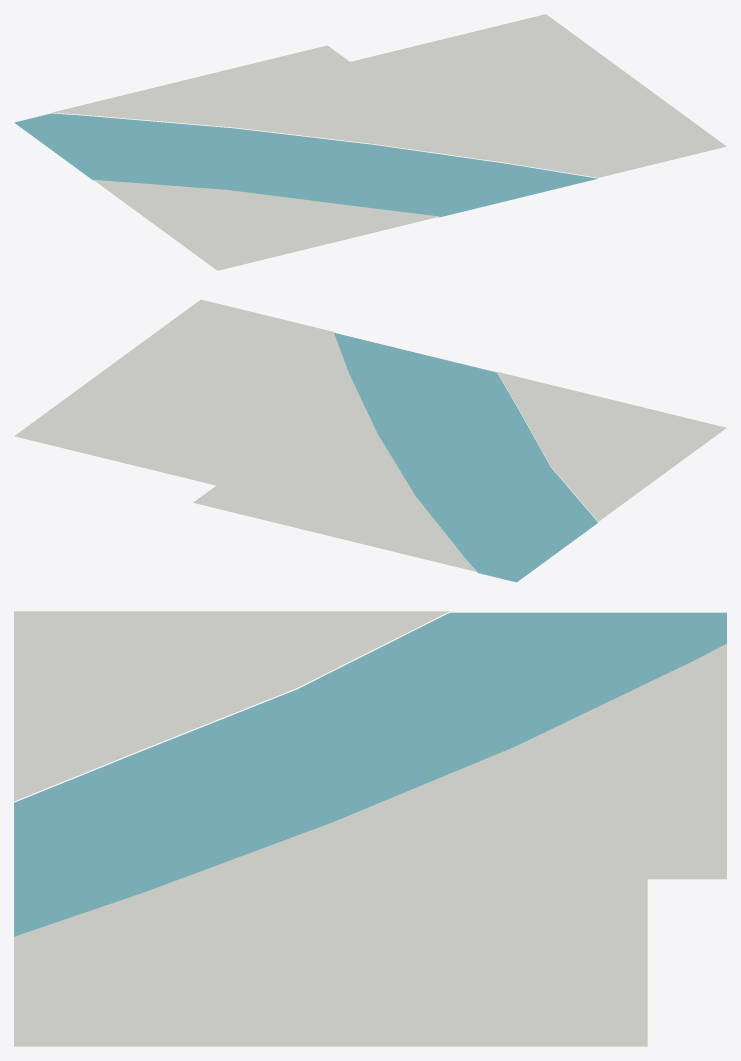
3 views of the same model, one above another, from view 1: azimuth 30°, elevation 25°; view 2: azimuth 150°, elevation 25°; view 3: azimuth 270°, elevation 25° (orthographic). The views are drawn at different scales.
Parts seen in each view (by area): view 1: city; view 2: city; view 3: city.
Boxes of the visible parts, left/top/right/bottom form: city: left=14, top=14, right=726, bottom=270; city: left=14, top=299, right=726, bottom=582; city: left=14, top=611, right=726, bottom=1046.
Bounding box in the file's own units: 130 × 0.18 × 90.
